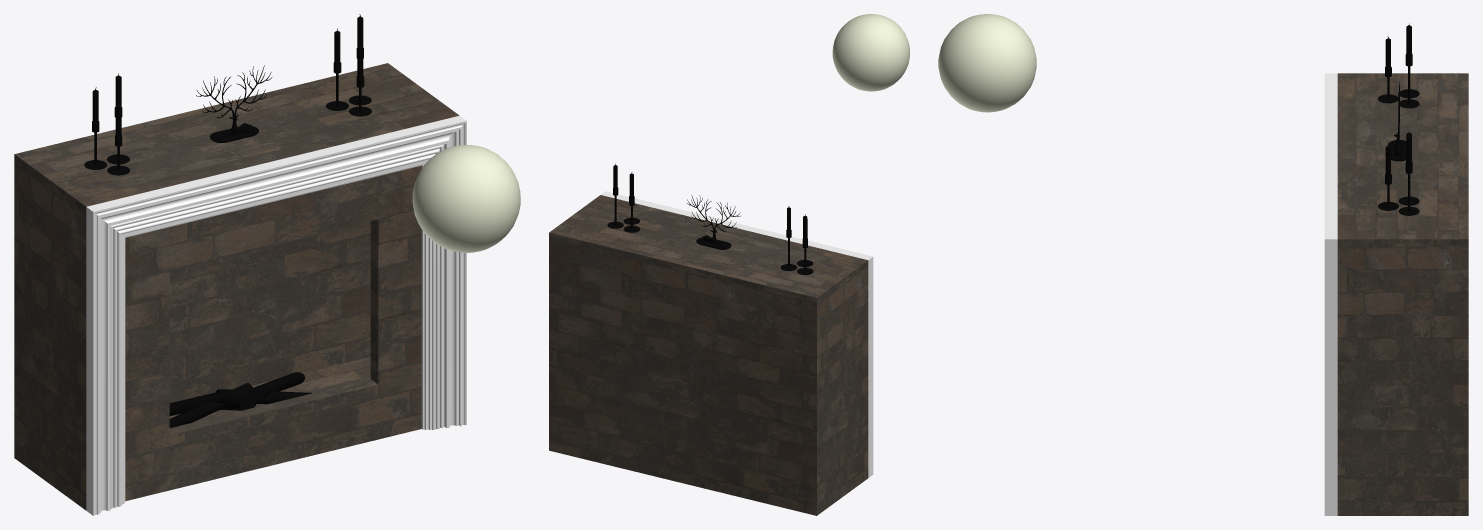
3 views of the same model, side by side, from view 1: azimuth 30°, elevation 25°; view 2: azimuth 150°, elevation 25°; view 3: azimuth 270°, elevation 25° (orthographic). The views are drawn at different scales.
Parts seen in each view (by area): view 1: Rectangle001, Line002, Corona Light001, Cylinder001, Candles 20-07_001, Candles 20-07_002, Decorative Deer 97-30_001; view 2: Rectangle001, Corona Light001, Line002, Decorative Deer 97-30_001, Candles 20-07_001, Candles 20-07_002; view 3: Rectangle001, Corona Light001, Line002, Candles 20-07_001, Candles 20-07_002.
Boxes of the visible parts, left/top/right/bottom form: Rectangle001: left=14, top=63, right=459, bottom=510; Line002: left=86, top=115, right=466, bottom=515; Corona Light001: left=412, top=145, right=520, bottom=252; Cylinder001: left=169, top=372, right=313, bottom=427; Candles 20-07_001: left=326, top=14, right=371, bottom=116; Candles 20-07_002: left=84, top=73, right=129, bottom=175; Decorative Deer 97-30_001: left=196, top=65, right=271, bottom=142; Rectangle001: left=549, top=195, right=868, bottom=515; Corona Light001: left=832, top=14, right=909, bottom=91; Line002: left=601, top=191, right=873, bottom=477; Decorative Deer 97-30_001: left=687, top=195, right=740, bottom=249; Candles 20-07_001: left=607, top=163, right=640, bottom=232; Candles 20-07_002: left=780, top=206, right=813, bottom=274; Rectangle001: left=1337, top=73, right=1468, bottom=515; Corona Light001: left=938, top=14, right=1036, bottom=112; Line002: left=1324, top=73, right=1337, bottom=515; Candles 20-07_001: left=1378, top=131, right=1419, bottom=215; Candles 20-07_002: left=1378, top=23, right=1419, bottom=108.
Bounding box in the file's own units: 1.8 × 2.1 × 2.43.
8 materials, 1 textured.
